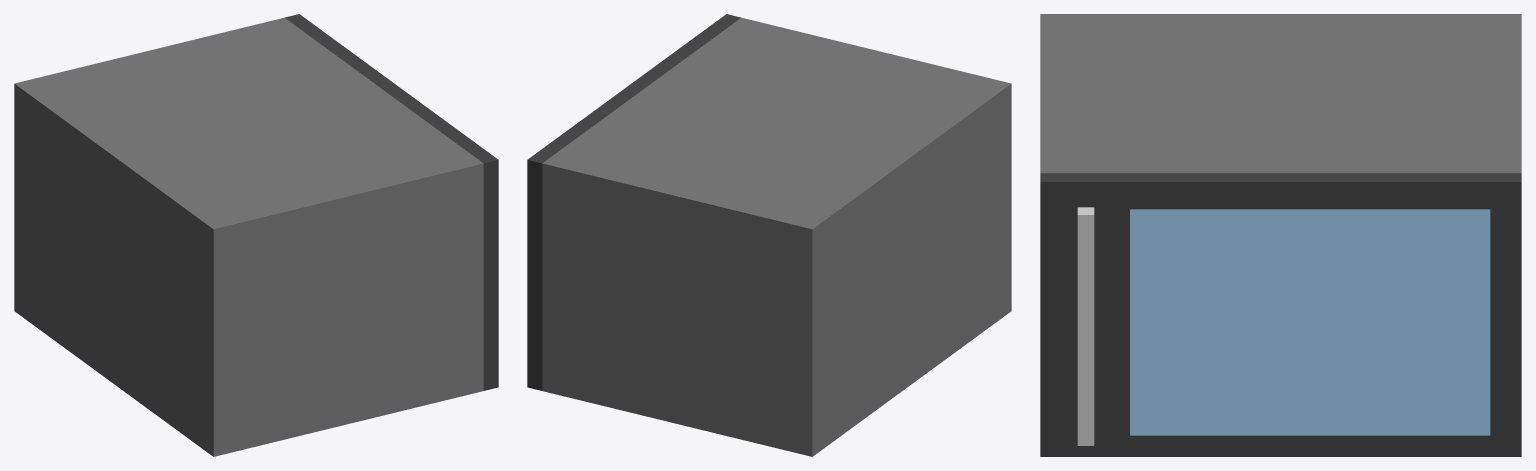
File: Microwave.fbx
The picture shows the model from 3 angles, left to right: view 1: azimuth 30°, elevation 25°; view 2: azimuth 150°, elevation 25°; view 3: azimuth 270°, elevation 25°; orthographic projection. The views are drawn at different scales.
Visible parts, largest first — view 1: Microwave.001; view 2: Microwave.001; view 3: Microwave.001.
Part boxes in pixels (x1=…): Microwave.001: x1=14, y1=14, x2=498, y2=456; Microwave.001: x1=527, y1=14, x2=1011, y2=456; Microwave.001: x1=1040, y1=14, x2=1521, y2=456.
Bounding box in the file's own units: 79.67 × 58.06 × 92.1.
